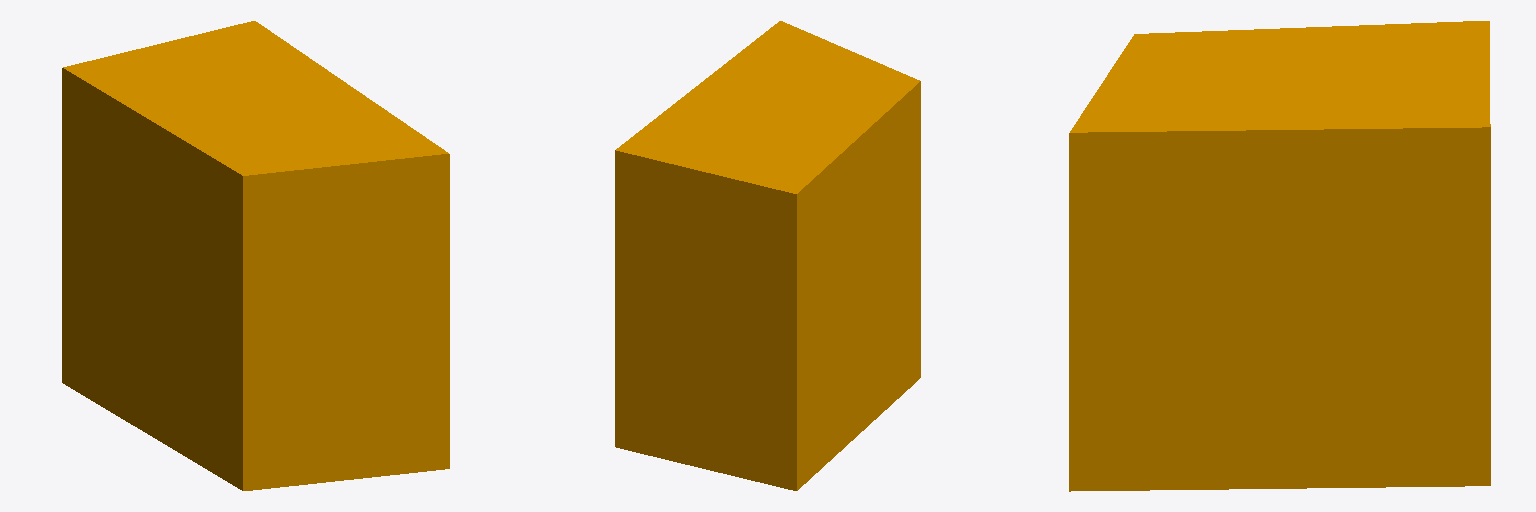
robot.urdf — object:
<?xml version="1.0"?>
<robot name="object">
  <link name="object">
    <visual>
      <origin xyz="0 0 0"/>
      <geometry>
        <mesh filename="meshes/generated/col_111.obj" scale="0.03 0.03 0.03"/>
      </geometry>
    </visual>
    <collision>
      <origin xyz="0 0 0"/>
      <geometry>
        <mesh filename="meshes/generated/col_111.obj" scale="0.03 0.03 0.03"/>
      </geometry>
    </collision>
    <inertial>
      <density value="1000.0"/>
    </inertial>
  </link>
</robot>

--- Render facts (derived) ---
Views: 3 orthographic renders of the robot side by side, from view 1: azimuth 30°, elevation 25°; view 2: azimuth 150°, elevation 25°; view 3: azimuth 270°, elevation 25°.
Model object with 1 links and 0 joints (none), rooted at object, posed all joints at 0.
Links seen in each view (by area): view 1: object; view 2: object; view 3: object.
Link boxes in pixels (x1,y1,x2,y2): object: [62, 21, 449, 490]; object: [615, 21, 920, 490]; object: [1069, 21, 1490, 491].
Size in the robot's own frame: 0.0403 by 0.0638 by 0.06 metres.
Meshes: 1 distinct files referenced, 1 mesh visuals loaded (1 OBJ).
